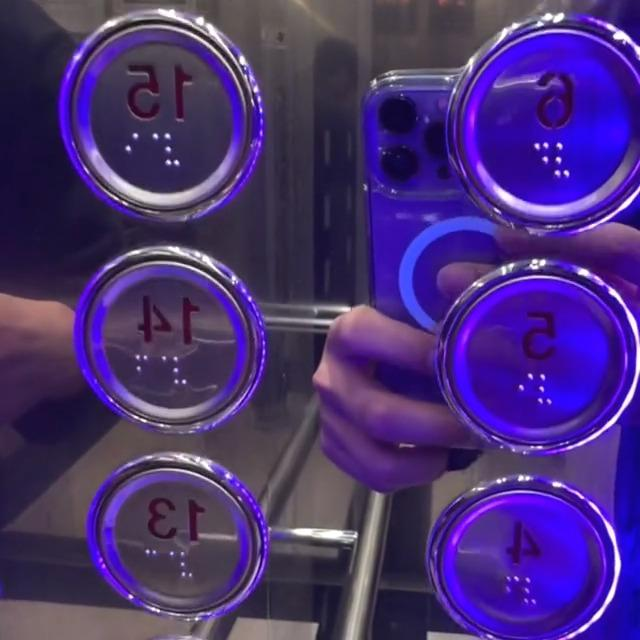button: (50, 24, 273, 214), (460, 24, 640, 216), (445, 268, 632, 444), (434, 476, 625, 638), (81, 262, 267, 427), (85, 449, 263, 614)
